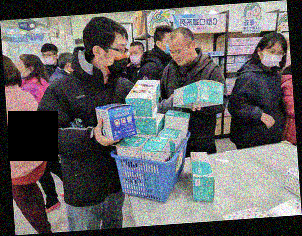with_mask: (103, 43, 130, 80), (259, 47, 285, 68), (128, 48, 142, 67), (40, 51, 55, 65)
without_mask: (169, 47, 192, 67)
